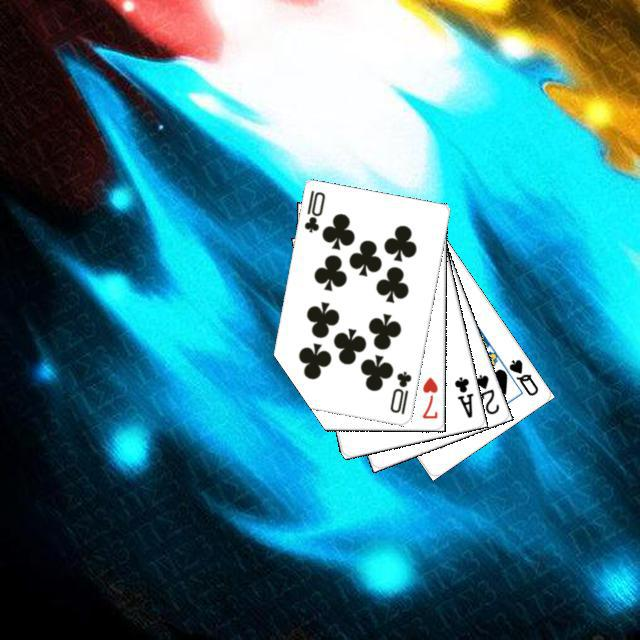10c: (385, 366, 413, 416), (299, 185, 327, 234)
2s: (470, 369, 501, 416)
7h: (417, 372, 439, 420)
Ac: (449, 372, 475, 420)
Qs: (504, 354, 540, 398)
